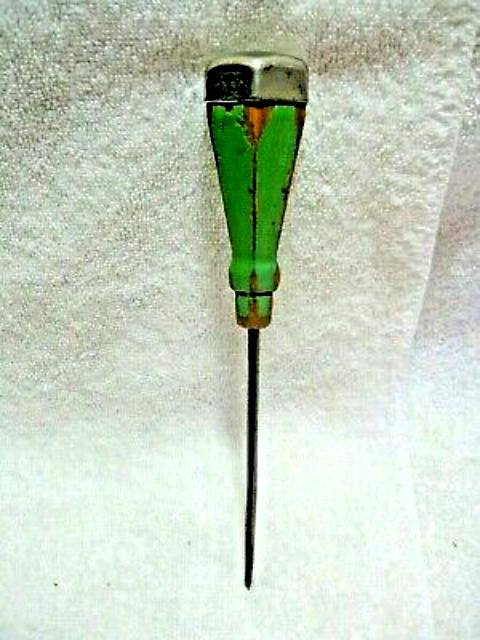ice pick: (201, 52, 309, 592)
